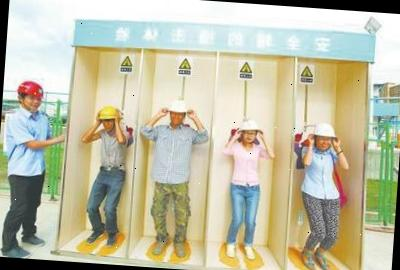helmet: (306, 121, 338, 139), (15, 79, 44, 98), (94, 105, 125, 122), (165, 100, 191, 115), (236, 120, 262, 134)
no_wear: (4, 107, 51, 180), (148, 124, 196, 188), (301, 148, 340, 201), (95, 126, 130, 172), (231, 142, 260, 188)
